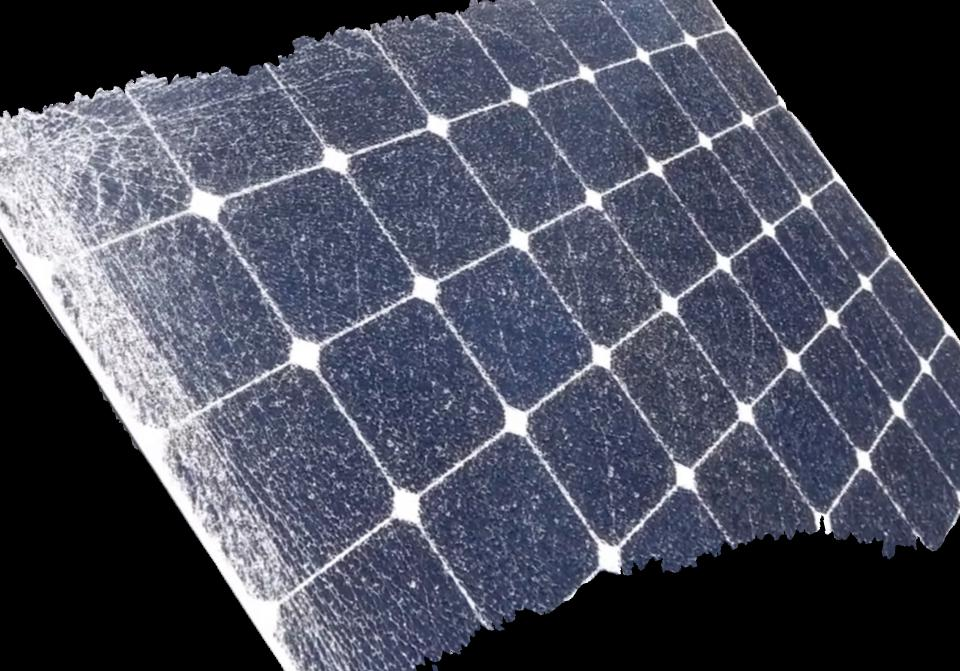Crack: (68, 176, 426, 670), (0, 65, 244, 350)
